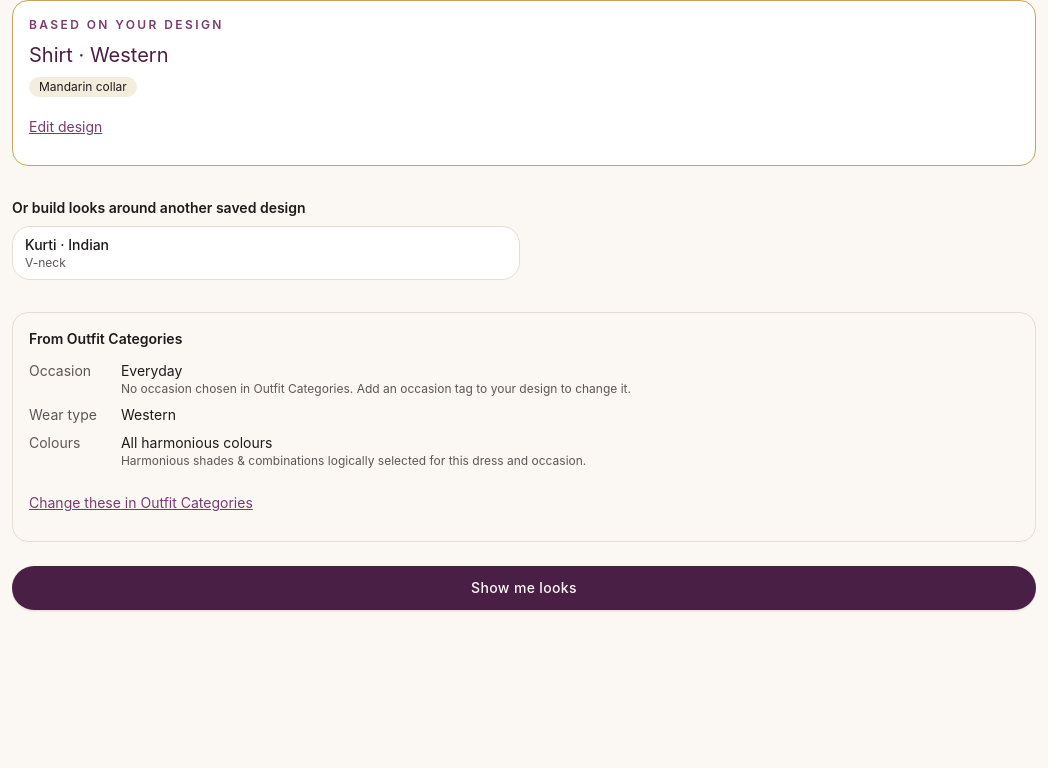
Test: Discover My Style opened from a design › lists the saved Outfit Categories designs and builds looks around the one chosen
Expected: the heading "Shirt · Western" is shown, top-left (29, 43), bottom-right (168, 67)
Expected: the form named "designGarment" holds "shirt", top-left (12, 312), bottom-right (1036, 610)
Click the button "Kurti · Indian V-neck" at (41, 244), box top-left (12, 226), bottom-right (520, 280)
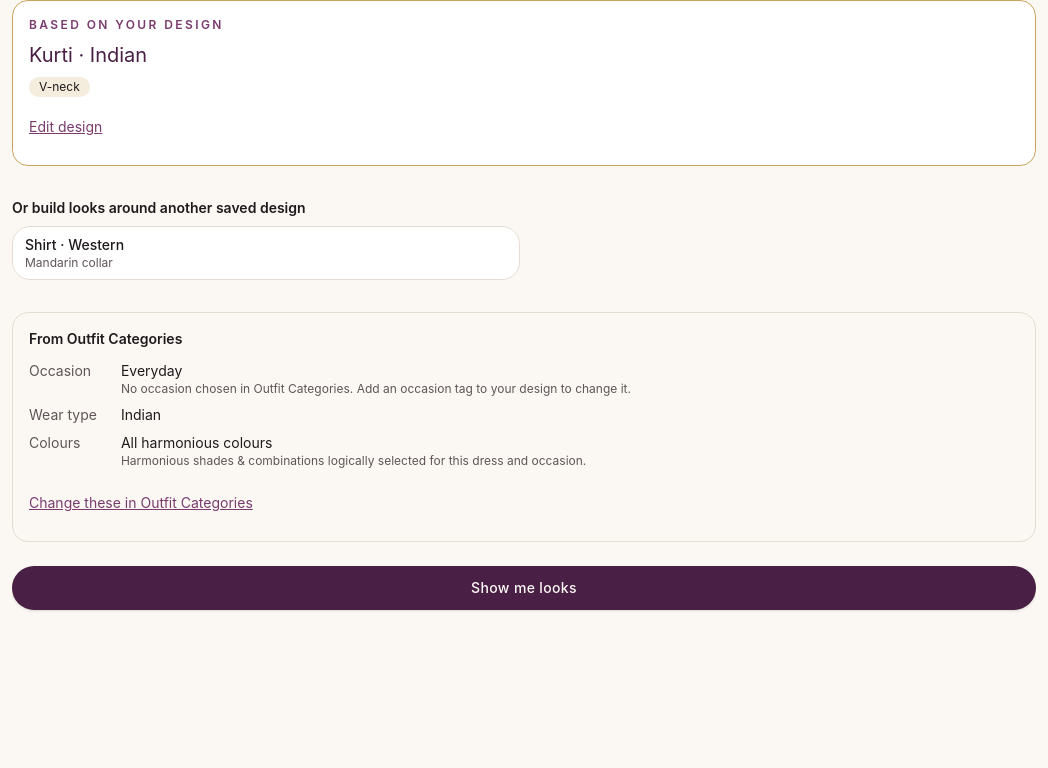
Expected: the form named "designGarment" holds "kurti", top-left (12, 312), bottom-right (1036, 610)
Now the heading "Kurti · Indian" is shown, box top-left (29, 43), bottom-right (147, 67)
